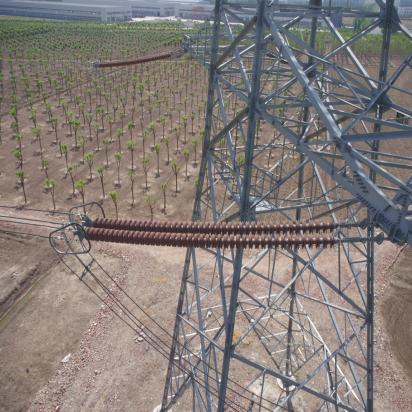insulator: (80, 215, 356, 251), (95, 49, 178, 70)
